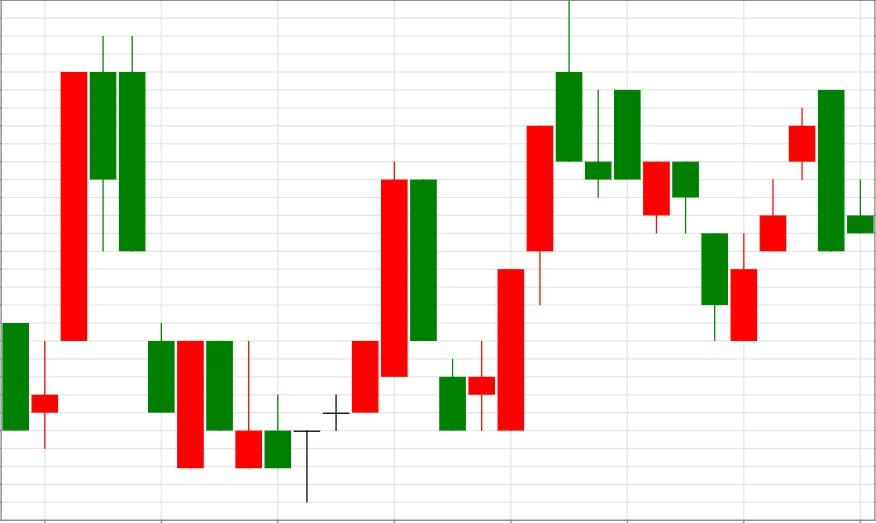inverse_hammer_rise: (59, 35, 263, 469)
three_white_soldiers_rise: (555, 0, 817, 341)
